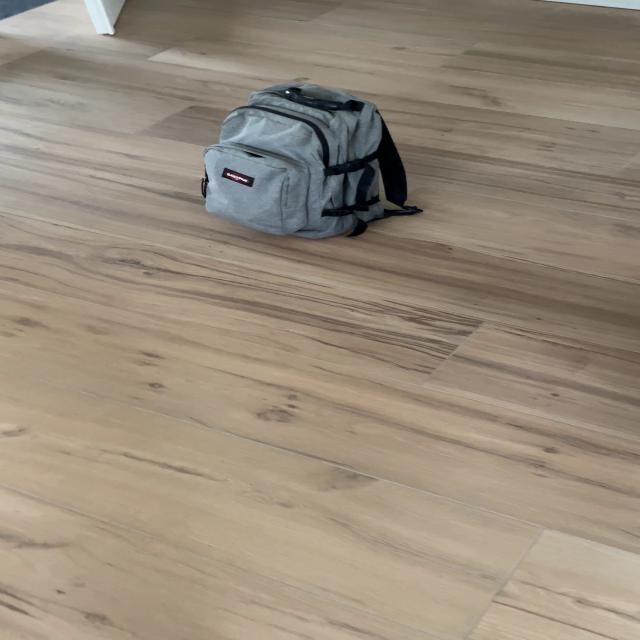backpack: (190, 76, 418, 245)
